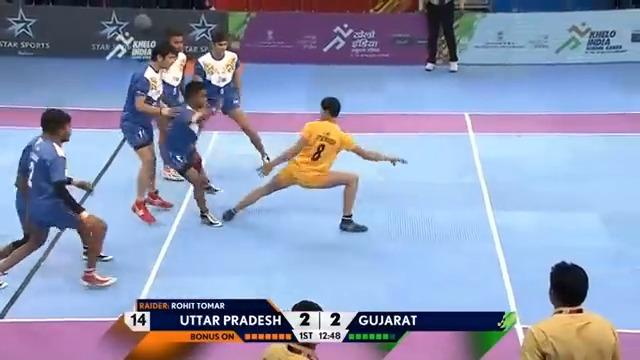Player: (0, 107, 117, 290), (120, 40, 185, 223), (189, 29, 271, 168), (160, 22, 186, 85)
Raider: (219, 94, 407, 235)
referee: (518, 260, 621, 359), (261, 299, 324, 359), (422, 0, 462, 72)
